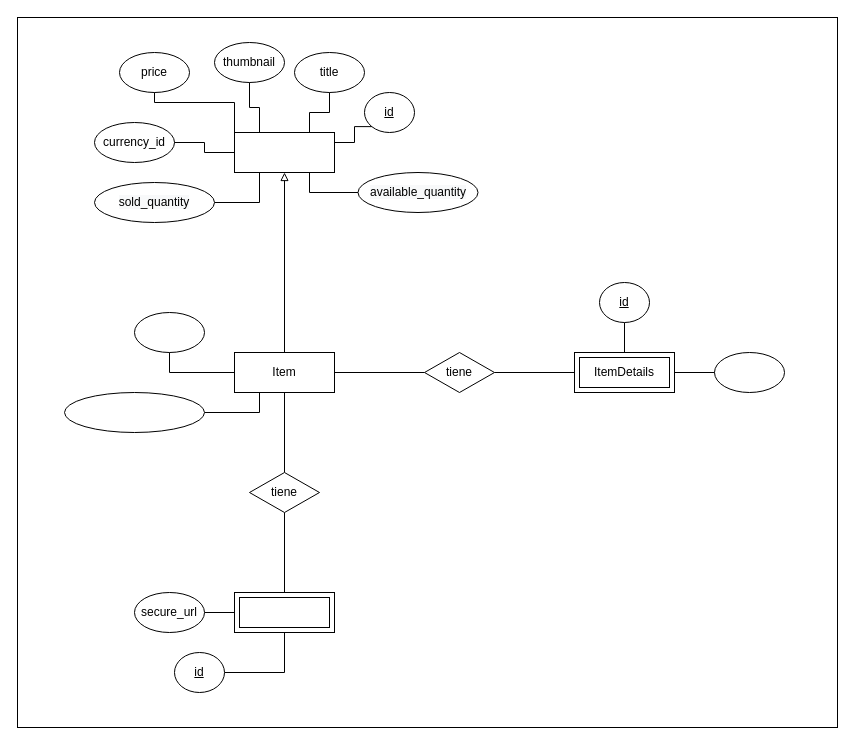
The diagram is 855 pixels wide and 745 high, and some of its shapes have lost their labels. The centre of each missing label's shape, as x and y in pixels:
accepts_mercadopago: the point at 134,412
ItemPicture: the point at 284,612
ItemReference: the point at 284,152
permalink: the point at 169,332
plain_text: the point at 749,372
